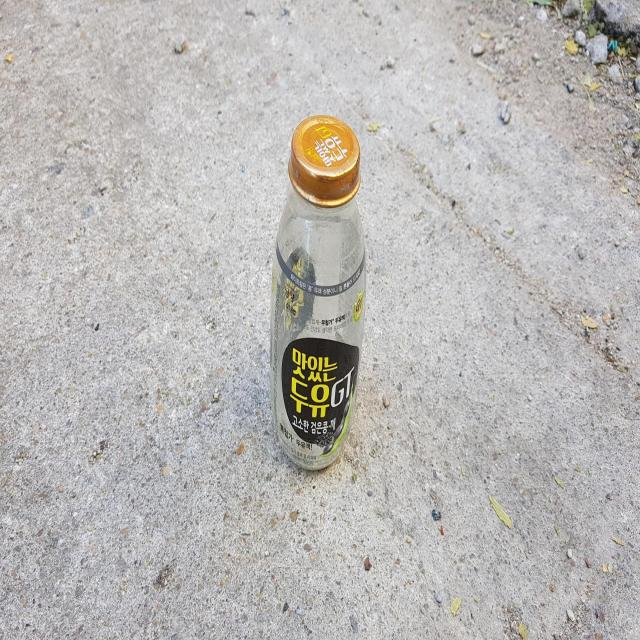glass: (271, 114, 366, 469)
